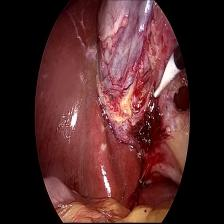Hook: (151, 52, 181, 102)
